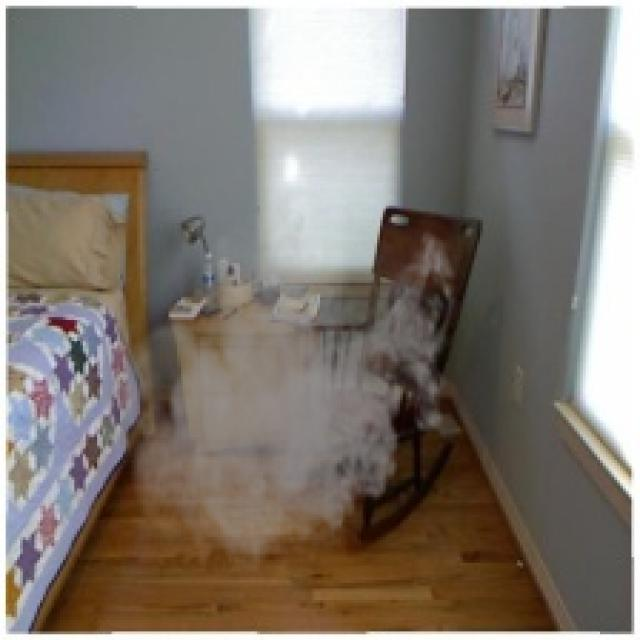smoke: (97, 163, 466, 586)
